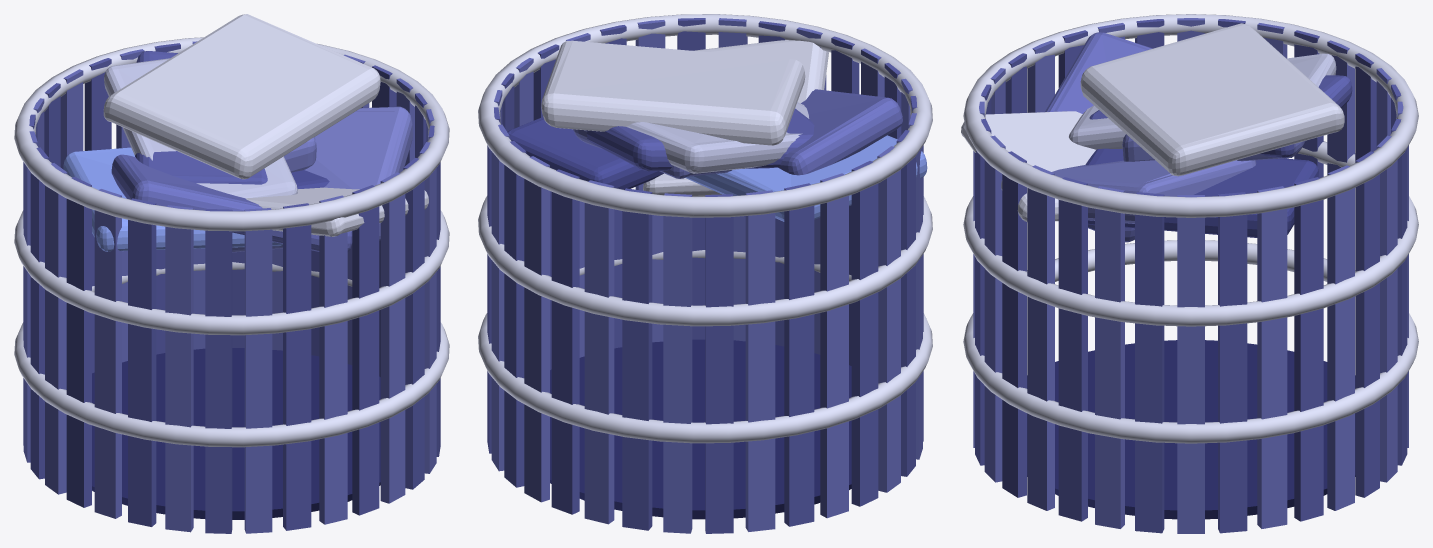
The model's file is laundryBasket.glb.
The picture shows the model from 3 angles, left to right: view 1: azimuth 30°, elevation 25°; view 2: azimuth 150°, elevation 25°; view 3: azimuth 270°, elevation 25°; orthographic projection. The views are drawn at different scales.
Visible parts, largest first — view 1: laundryBasket, cloth8, bottom, cloth1, cloth3, cloth5, cloth4, cloth6, cloth2, cloth7, cloth0; view 2: laundryBasket, cloth8, bottom, cloth3, cloth0, cloth5, cloth4, cloth2, cloth6; view 3: laundryBasket, cloth8, bottom, cloth2, cloth1, cloth0, cloth3, cloth5, cloth6, cloth7.
Part boxes in pixels (left/top/right/bottom): laundryBasket: left=14, top=37, right=449, bottom=533; cloth8: left=103, top=14, right=380, bottom=179; bottom: left=92, top=348, right=380, bottom=519; cloth1: left=232, top=106, right=412, bottom=252; cloth3: left=111, top=154, right=352, bottom=251; cloth5: left=104, top=58, right=297, bottom=198; cloth4: left=63, top=147, right=282, bottom=251; cloth6: left=135, top=51, right=267, bottom=184; cloth2: left=245, top=187, right=428, bottom=236; cloth7: left=284, top=137, right=316, bottom=172; cloth0: left=291, top=170, right=329, bottom=188; laundryBasket: left=478, top=14, right=932, bottom=533; cloth8: left=541, top=40, right=805, bottom=145; bottom: left=550, top=339, right=851, bottom=519; cloth3: left=778, top=89, right=902, bottom=175; cloth0: left=507, top=117, right=663, bottom=189; cloth5: left=627, top=102, right=809, bottom=173; cloth4: left=685, top=135, right=927, bottom=221; cloth2: left=643, top=40, right=828, bottom=196; cloth6: left=573, top=108, right=814, bottom=171; laundryBasket: left=963, top=14, right=1418, bottom=533; cloth8: left=1080, top=23, right=1344, bottom=176; bottom: left=1027, top=340, right=1355, bottom=519; cloth2: left=961, top=111, right=1095, bottom=221; cloth1: left=1052, top=160, right=1256, bottom=223; cloth0: left=1085, top=148, right=1318, bottom=237; cloth3: left=1045, top=32, right=1152, bottom=242; cloth5: left=1069, top=53, right=1336, bottom=149; cloth6: left=1089, top=75, right=1352, bottom=158; cloth7: left=1122, top=134, right=1305, bottom=161.
Size of the model in its own units: 0.494 by 0.4539 by 0.4965.
